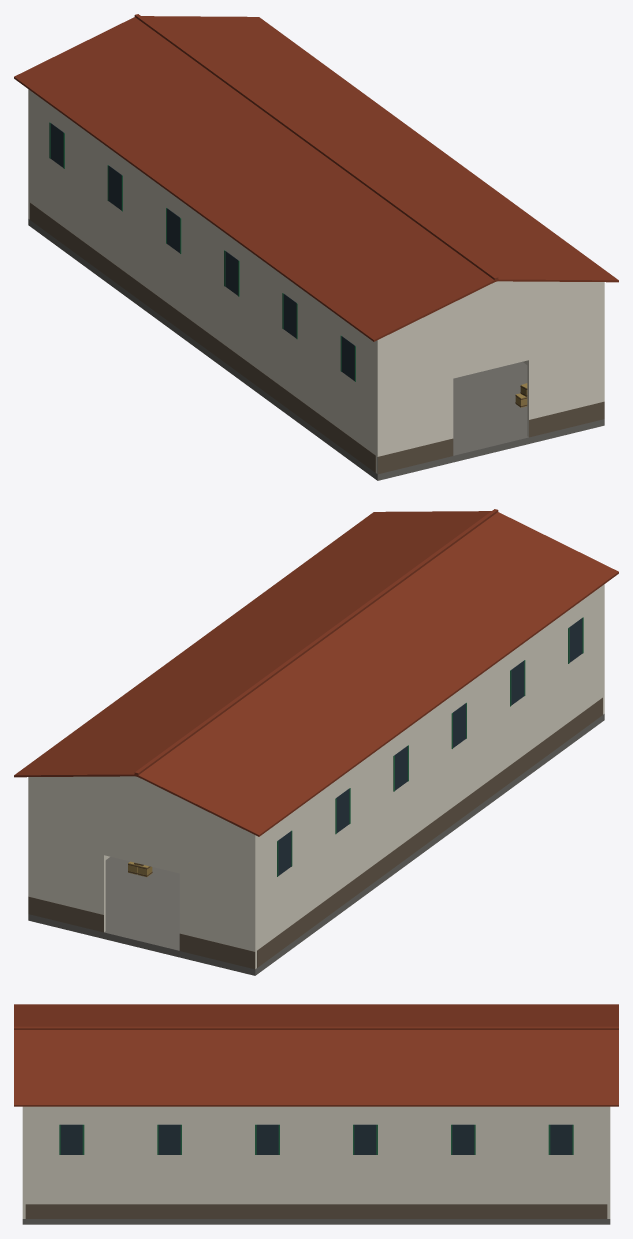
File: armazem_acucar_a.glb
3 renders of one model, top to bottom at view 1: azimuth 30°, elevation 25°; view 2: azimuth 150°, elevation 25°; view 3: azimuth 270°, elevation 25°, orthographic. The views are drawn at different scales.
Parts seen in each view (by area): view 1: armazem_acucar_a; view 2: armazem_acucar_a; view 3: armazem_acucar_a.
Part boxes in pixels (box(x1,y1,x2,y2)): armazem_acucar_a: box(14, 14, 618, 480); armazem_acucar_a: box(14, 509, 618, 975); armazem_acucar_a: box(14, 1004, 618, 1224).
Bounding box in the file's own units: 16.2 × 11.32 × 41.2.
